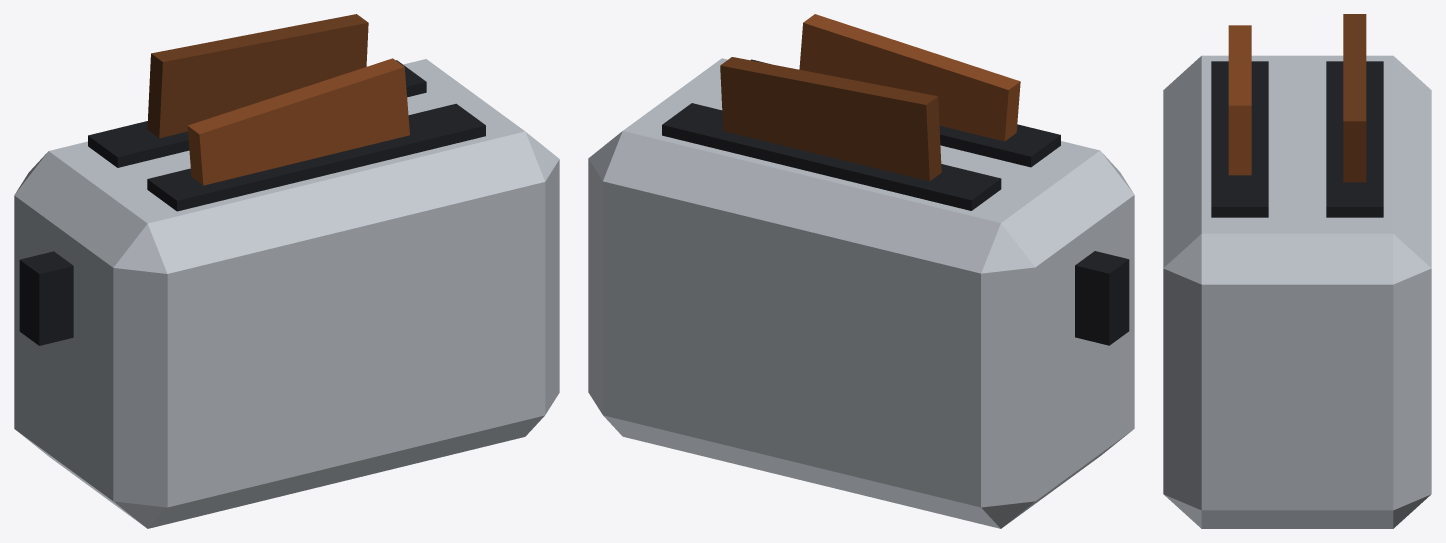
The model's file is toaster.fbx.
3 views of the same model, side by side, from view 1: azimuth 30°, elevation 25°; view 2: azimuth 150°, elevation 25°; view 3: azimuth 270°, elevation 25° (orthographic). The views are drawn at different scales.
Parts seen in each view (by area): view 1: toaster; view 2: toaster; view 3: toaster.
Boxes of the visible parts, left/top/right/bottom form: toaster: left=14, top=14, right=559, bottom=528; toaster: left=588, top=14, right=1134, bottom=528; toaster: left=1163, top=14, right=1431, bottom=528.
Bounding box in the file's own units: 1.12 × 0.8718 × 0.56.
